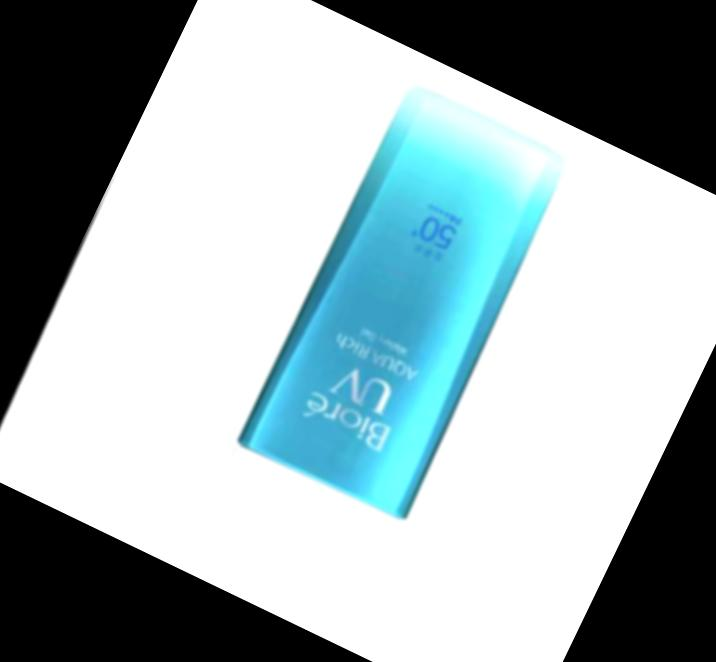cosmetic: (175, 75, 588, 636)
